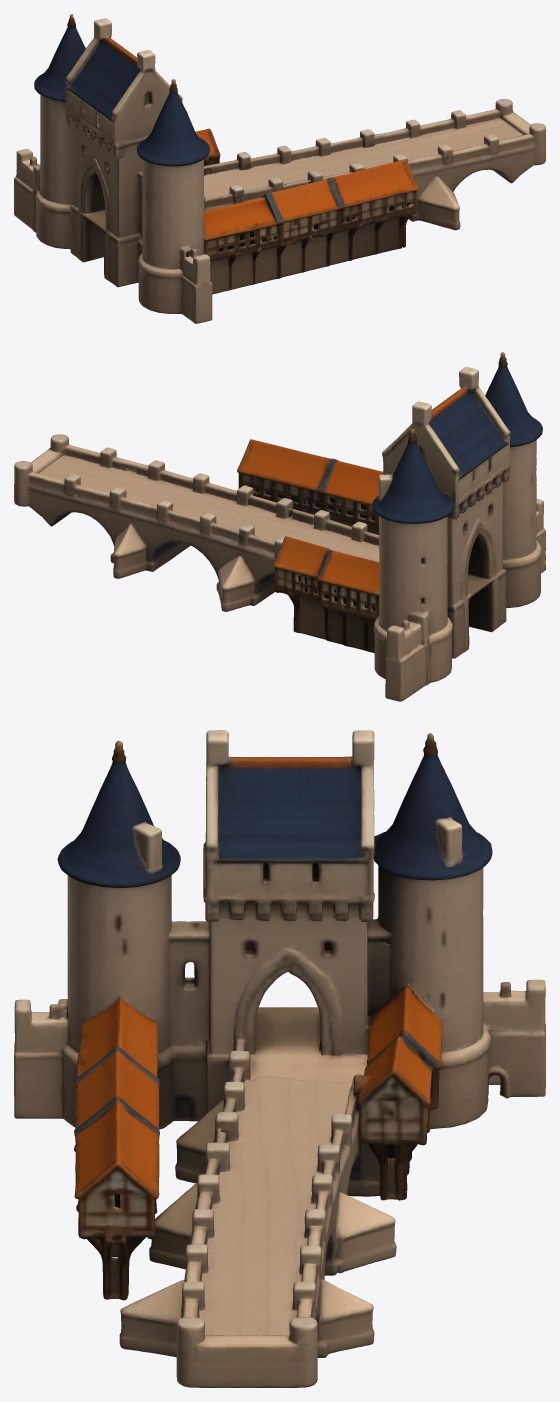
The model's file is petit_pont_petit_chatelet.glb.
The picture shows the model from 3 angles, top to bottom: view 1: azimuth 30°, elevation 25°; view 2: azimuth 150°, elevation 25°; view 3: azimuth 270°, elevation 25°; orthographic projection. The views are drawn at different scales.
Parts seen in each view (by area): view 1: world; view 2: world; view 3: world.
Part boxes in pixels (<box>): world: <box>14,14,545,323</box>; world: <box>14,352,545,701</box>; world: <box>14,730,545,1387</box>.
Bounding box in the file's own units: 0.9916 × 0.4908 × 0.622.
1 material, 1 textured.
